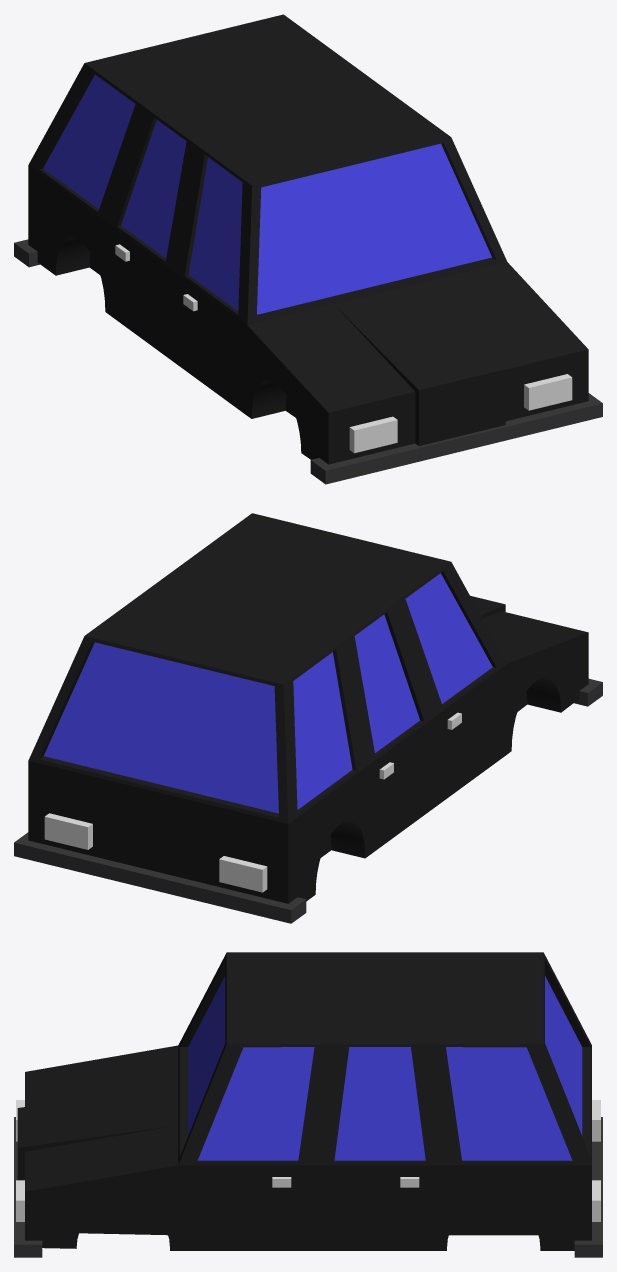
Rendered from low poly car station wagon.fbx.
The picture shows the model from 3 angles, top to bottom: view 1: azimuth 30°, elevation 25°; view 2: azimuth 150°, elevation 25°; view 3: azimuth 270°, elevation 25°; orthographic projection. The views are drawn at different scales.
Visible parts, largest first — view 1: Cube, Cube.002, Cube.001; view 2: Cube, Cube.002, Cube.001; view 3: Cube, Cube.002, Cube.001.
Part boxes in pixels (<box>): Cube: <box>28,14,588,464</box>; Cube.002: <box>14,239,602,484</box>; Cube.001: <box>349,374,572,453</box>; Cube: <box>28,513,588,903</box>; Cube.002: <box>14,678,602,923</box>; Cube.001: <box>44,813,267,892</box>; Cube: <box>17,952,591,1250</box>; Cube.002: <box>14,1117,602,1257</box>; Cube.001: <box>16,1100,600,1221</box>.
Bounding box in the file's own units: 640 × 456 × 1246.
